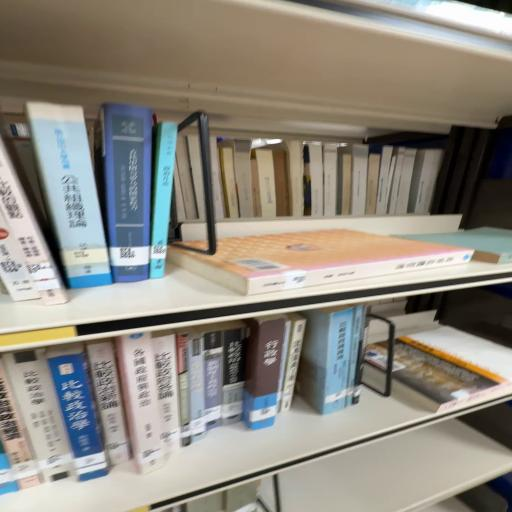flat: (167, 229, 472, 296), (365, 325, 512, 415)
